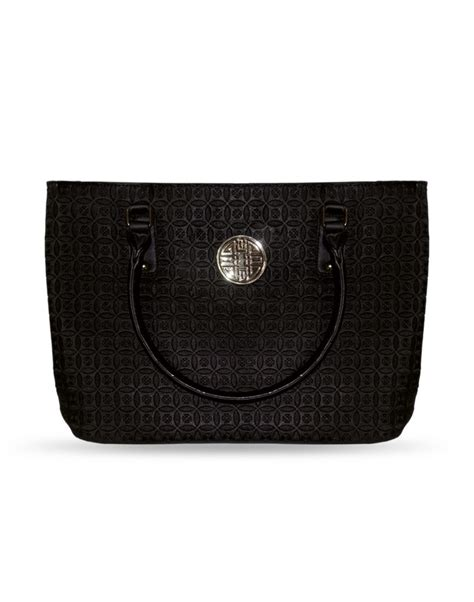cuero: (42, 178, 430, 445)
